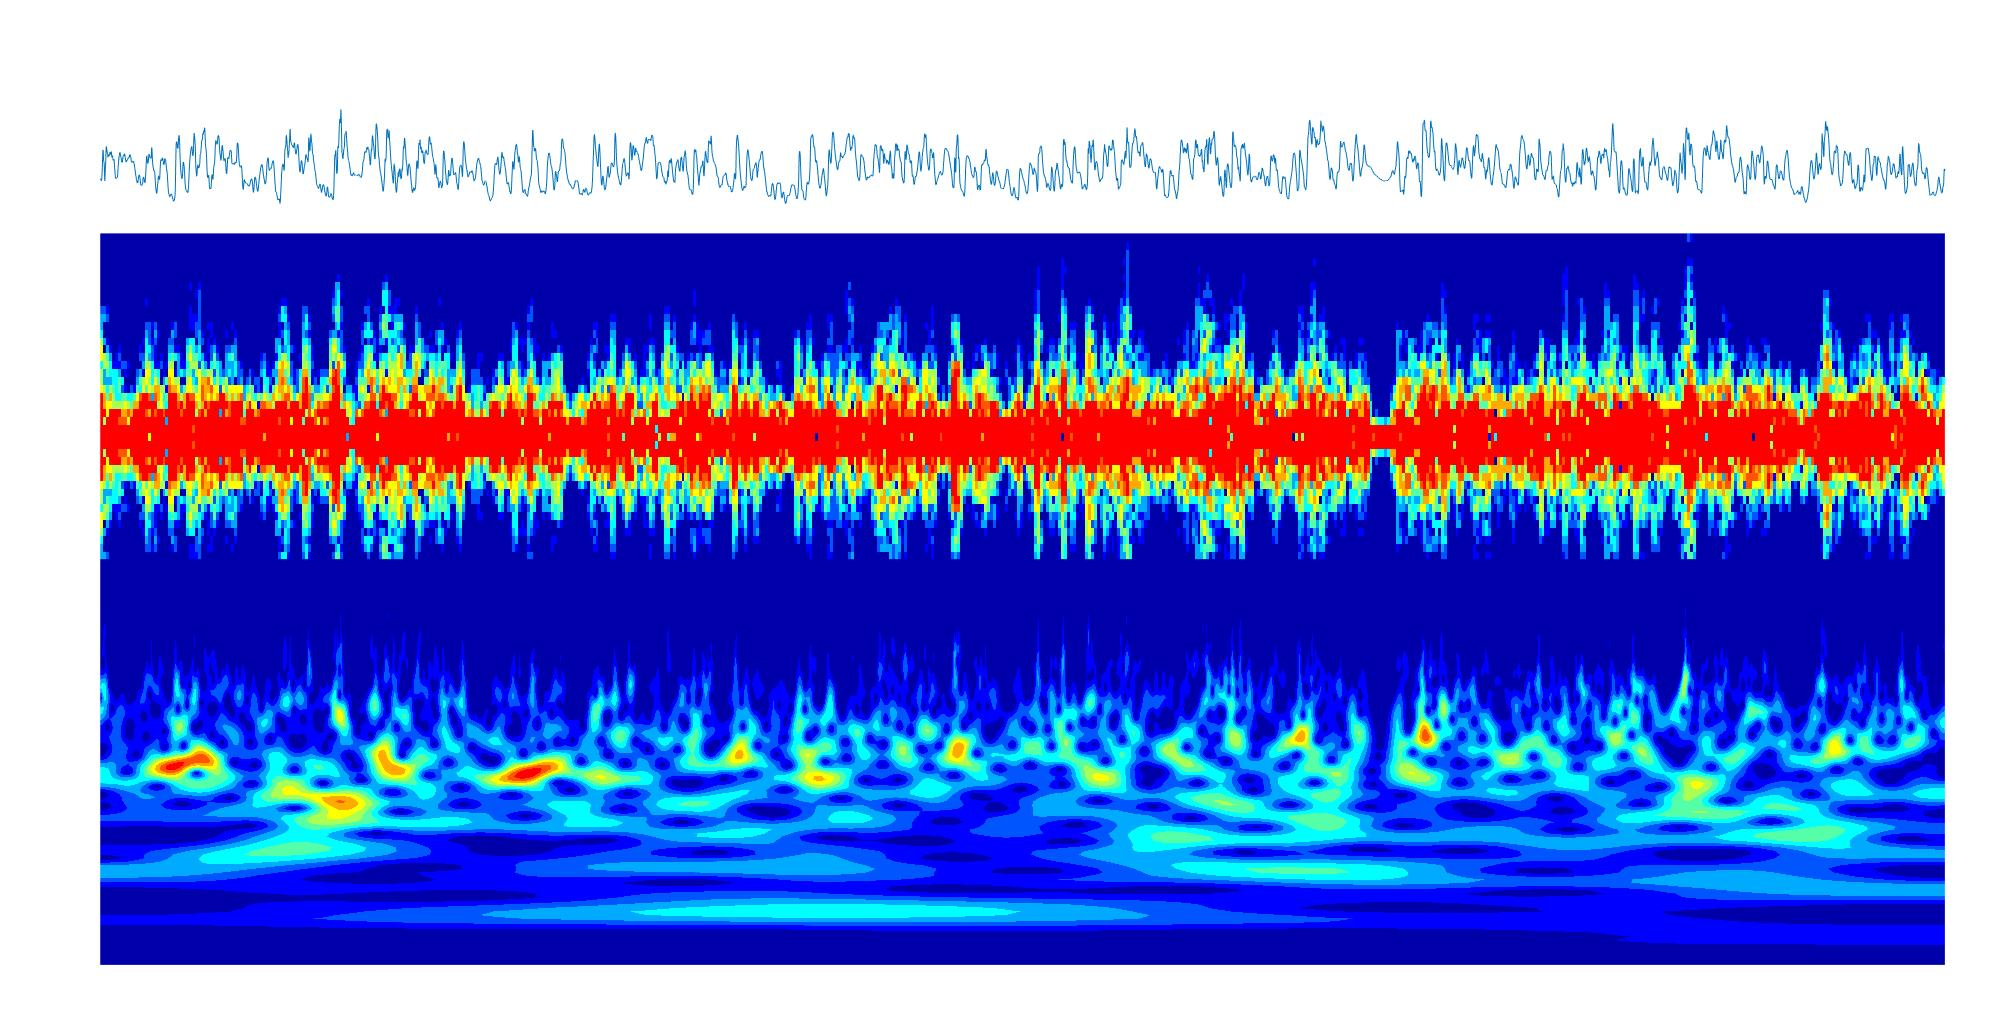TURBULENT: (104, 235, 1364, 964), (1398, 235, 1944, 967)
